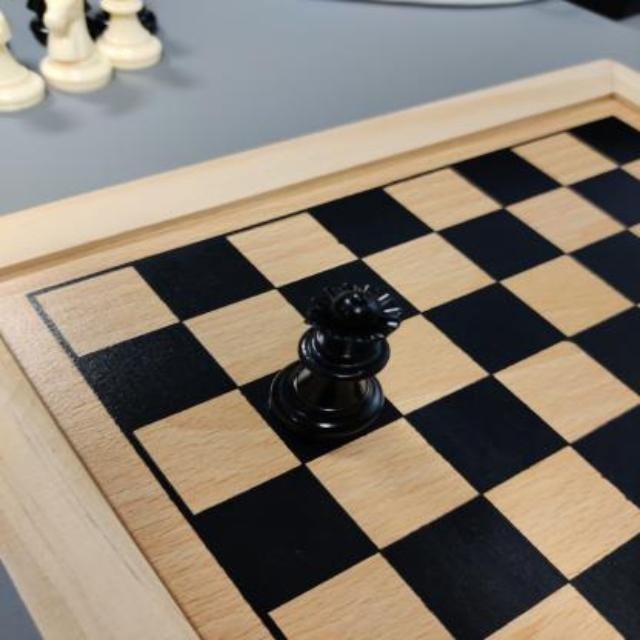black-queen: (267, 280, 402, 435)
